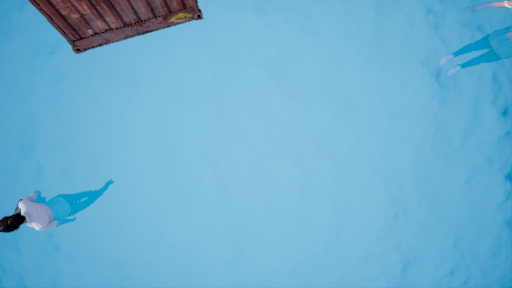person: (2, 178, 124, 245)
